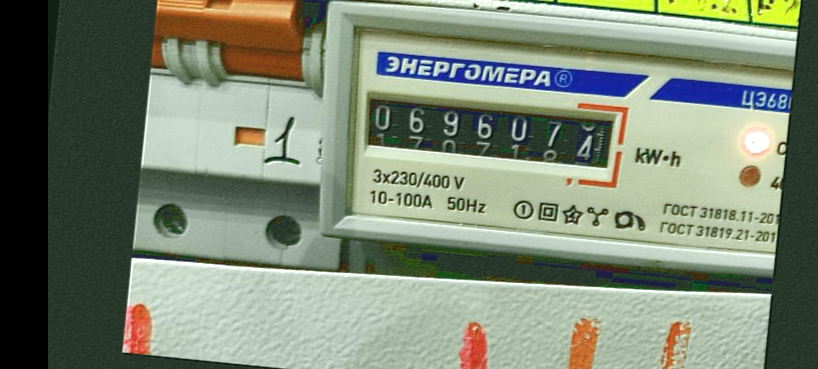0: (507, 110, 529, 139), (372, 98, 393, 128)
4: (574, 129, 594, 159)
6: (474, 107, 495, 137), (406, 102, 426, 131)
7: (542, 114, 564, 145)
9: (439, 105, 460, 135)
screen: (347, 73, 634, 187)
